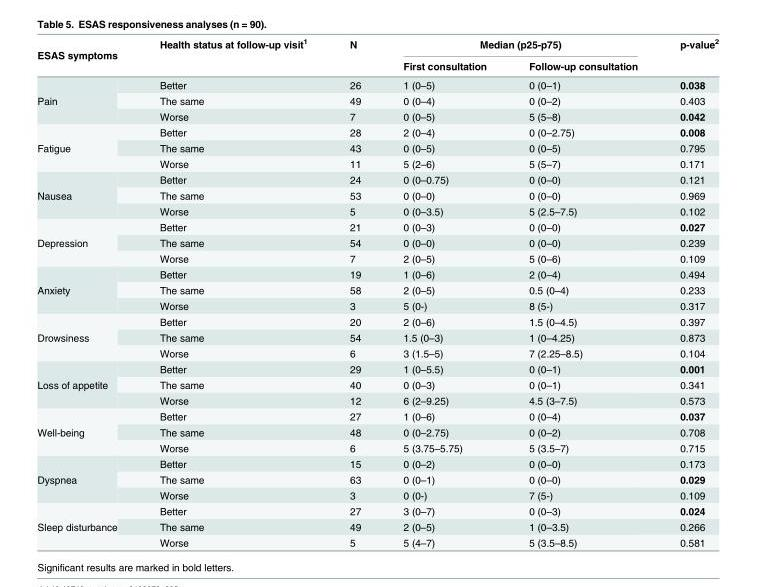table: (36, 36, 718, 548)
table column: (137, 36, 327, 548), (507, 36, 658, 548), (381, 36, 507, 548), (36, 36, 137, 548), (658, 36, 718, 548), (327, 36, 381, 548)
table column header: (36, 36, 718, 74)
table row: (36, 54, 718, 74), (36, 36, 718, 54), (36, 74, 718, 92), (36, 92, 718, 108), (36, 123, 718, 139), (36, 139, 718, 155), (36, 155, 718, 171), (36, 171, 718, 187), (36, 202, 718, 218), (36, 218, 718, 234), (36, 234, 718, 250), (36, 250, 718, 266), (36, 281, 718, 297), (36, 297, 718, 313), (36, 313, 718, 329), (36, 329, 718, 345), (36, 360, 718, 376), (36, 376, 718, 392), (36, 407, 718, 423), (36, 423, 718, 439), (36, 439, 718, 455), (36, 455, 718, 471), (36, 471, 718, 487), (36, 502, 718, 518), (36, 518, 718, 534), (36, 108, 718, 123), (36, 187, 718, 202), (36, 266, 718, 281), (36, 345, 718, 360), (36, 392, 718, 407), (36, 487, 718, 502), (36, 534, 718, 548)
table spanning cell: (137, 36, 327, 74), (381, 36, 658, 54), (36, 74, 137, 123), (36, 123, 137, 171), (36, 218, 137, 266), (36, 407, 137, 455), (36, 171, 137, 218), (36, 266, 137, 313), (36, 313, 137, 360), (36, 360, 137, 407), (36, 455, 137, 502), (36, 502, 137, 548), (36, 36, 137, 74), (658, 36, 718, 74), (327, 36, 381, 74)
